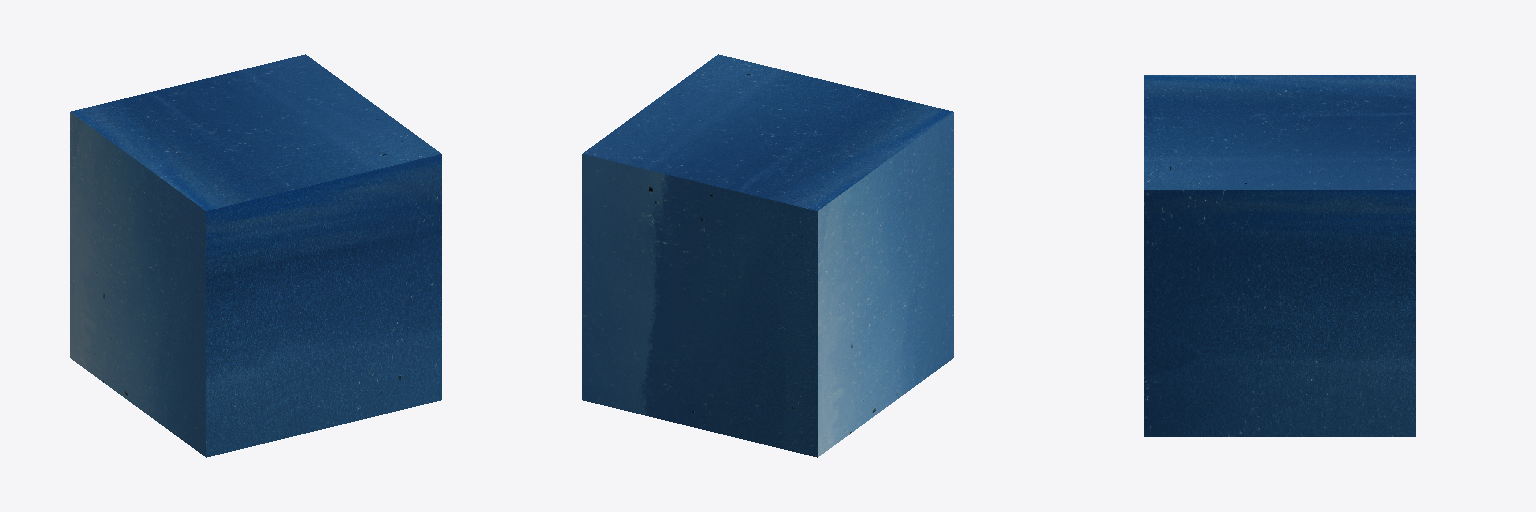
3 views of the same model, side by side, from view 1: azimuth 30°, elevation 25°; view 2: azimuth 150°, elevation 25°; view 3: azimuth 270°, elevation 25° (orthographic).
Parts seen in each view (by area): view 1: Cube; view 2: Cube; view 3: Cube.
Part boxes in pixels (x1,y1,x2,y2): Cube: (70, 54, 441, 457); Cube: (582, 54, 953, 457); Cube: (1144, 75, 1415, 436).
Size of the model in its own units: 0.1049 by 0.1049 by 0.1049.
Materials: 1 (1 with a texture image).